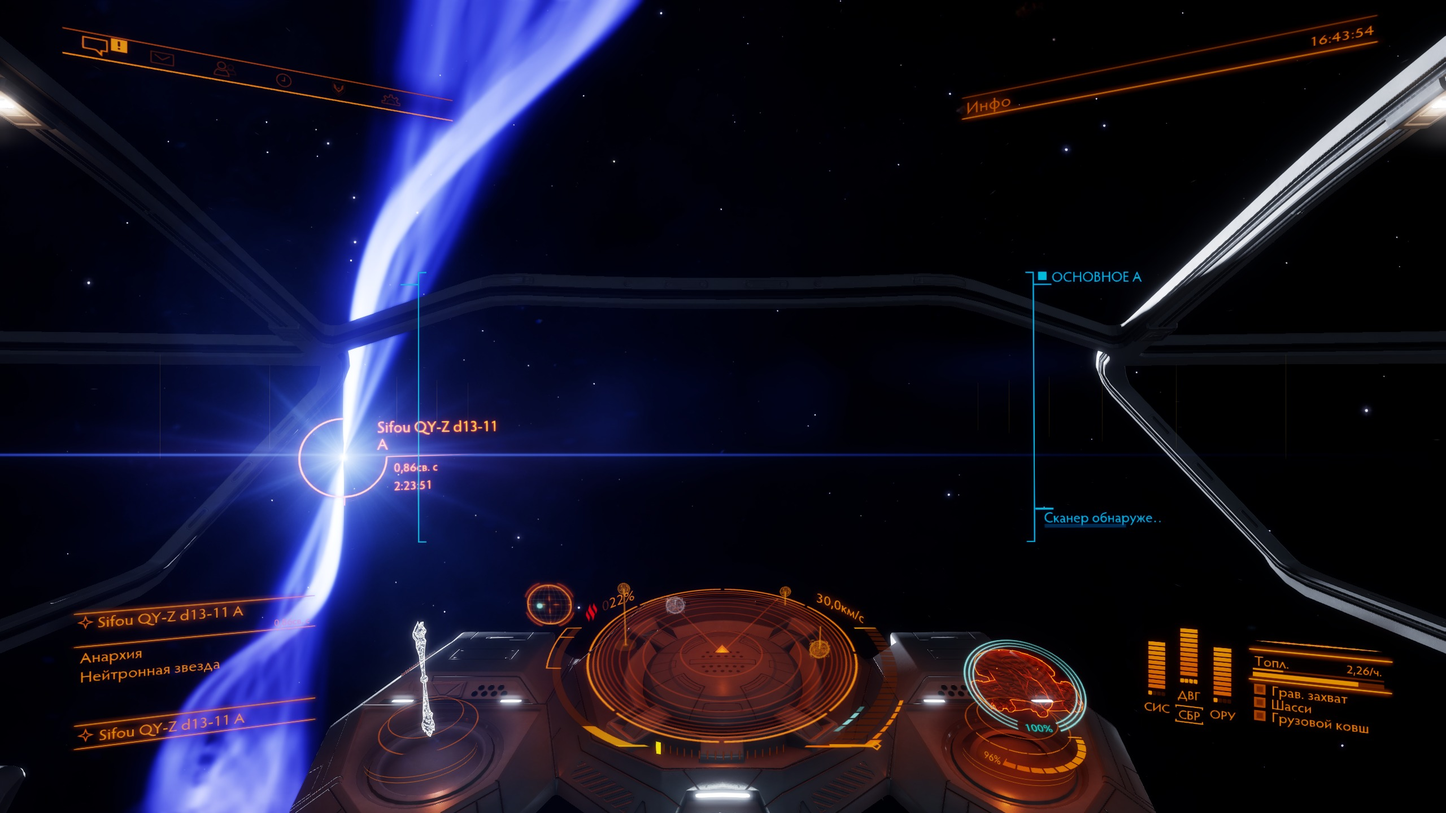jetcone: (63, 0, 638, 813)
